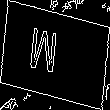M_S: (39, 26, 71, 84)
